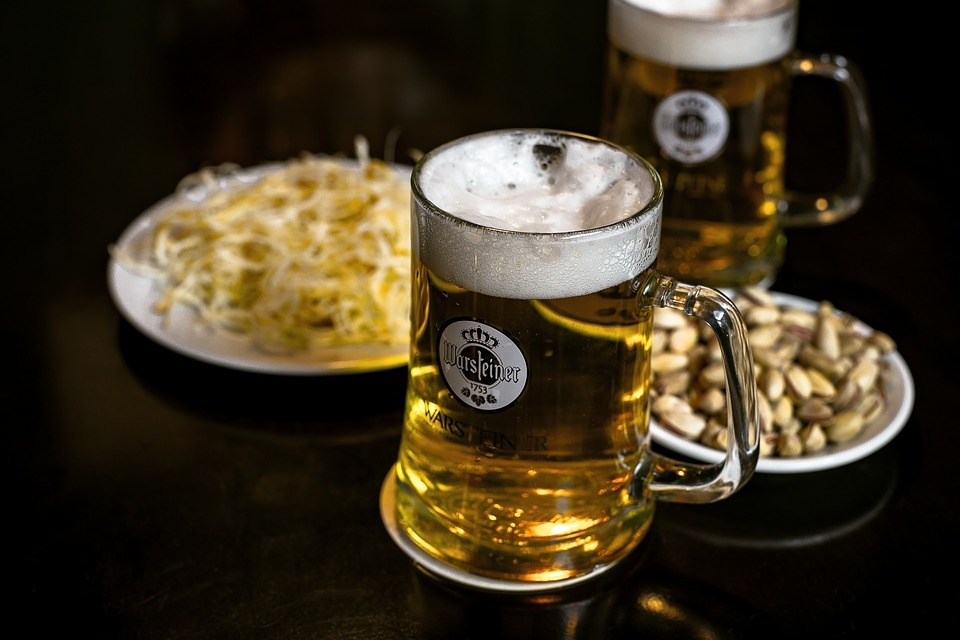glassBeer: (387, 138, 668, 572)
